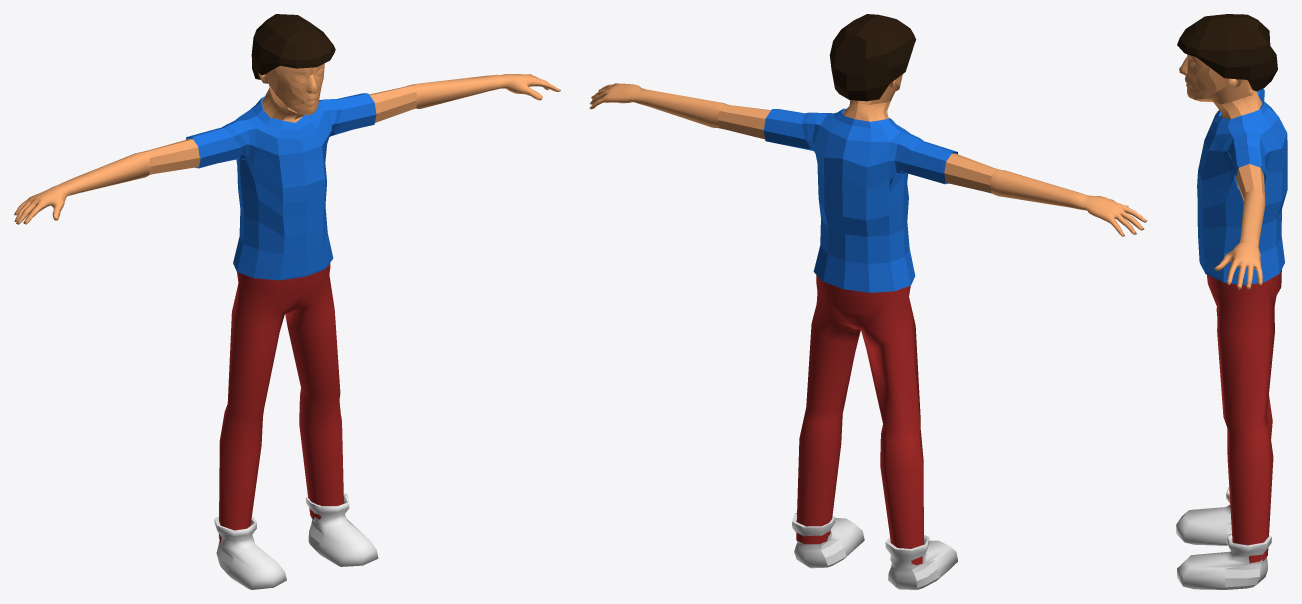
Rendered from Male_char_02.fbx.
3 renders of one model, left to right at view 1: azimuth 30°, elevation 25°; view 2: azimuth 150°, elevation 25°; view 3: azimuth 270°, elevation 25°, orthographic.
Parts seen in each view (by area): view 1: worker.002, worker.004, hair03; view 2: worker.002, worker.004, hair03; view 3: worker.002, worker.004, hair03.
Part boxes in pixels (box(x1,y1,x2,y2)): worker.002: box(14, 63, 560, 589); worker.004: box(186, 93, 376, 280); hair03: box(251, 14, 335, 79); worker.002: box(589, 74, 1147, 589); worker.004: box(763, 108, 957, 292); hair03: box(829, 14, 916, 101); worker.002: box(1176, 54, 1281, 589); worker.004: box(1197, 88, 1287, 285); hair03: box(1177, 14, 1277, 91).
Size of the model in its own units: 1538 by 1463 by 273.
